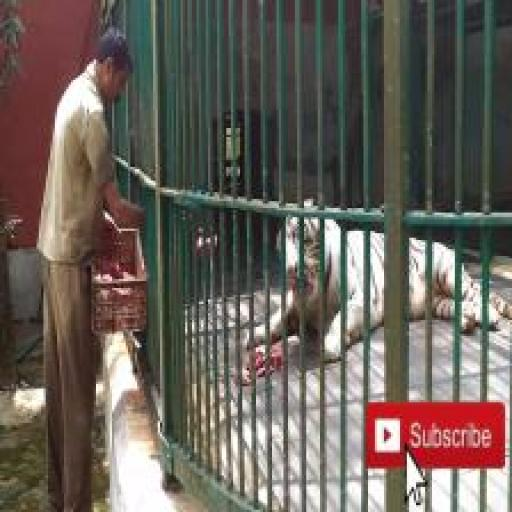Tiger: (242, 201, 511, 369)
